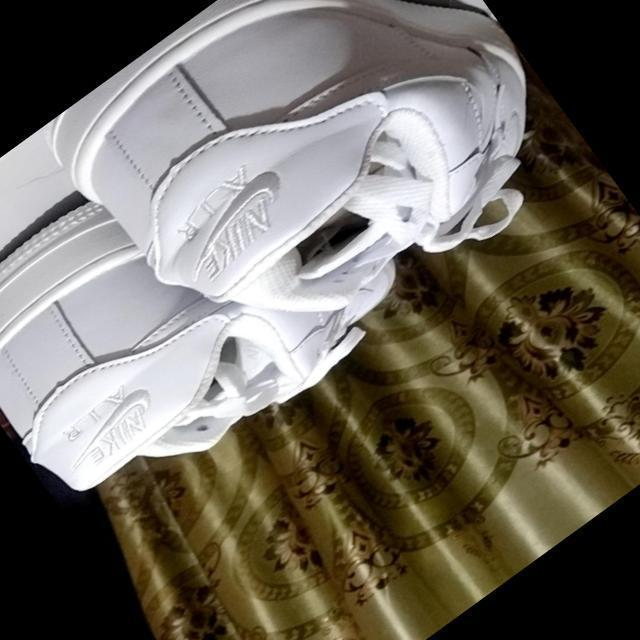nike fake air force: (27, 0, 589, 410), (0, 74, 418, 547)
